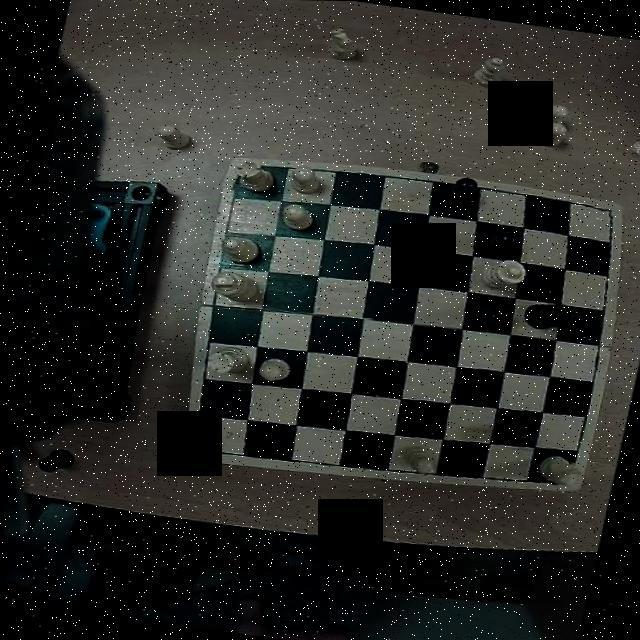chess-table-corners: (174, 422, 213, 460), (216, 156, 252, 192), (544, 460, 580, 492), (588, 201, 618, 228)
